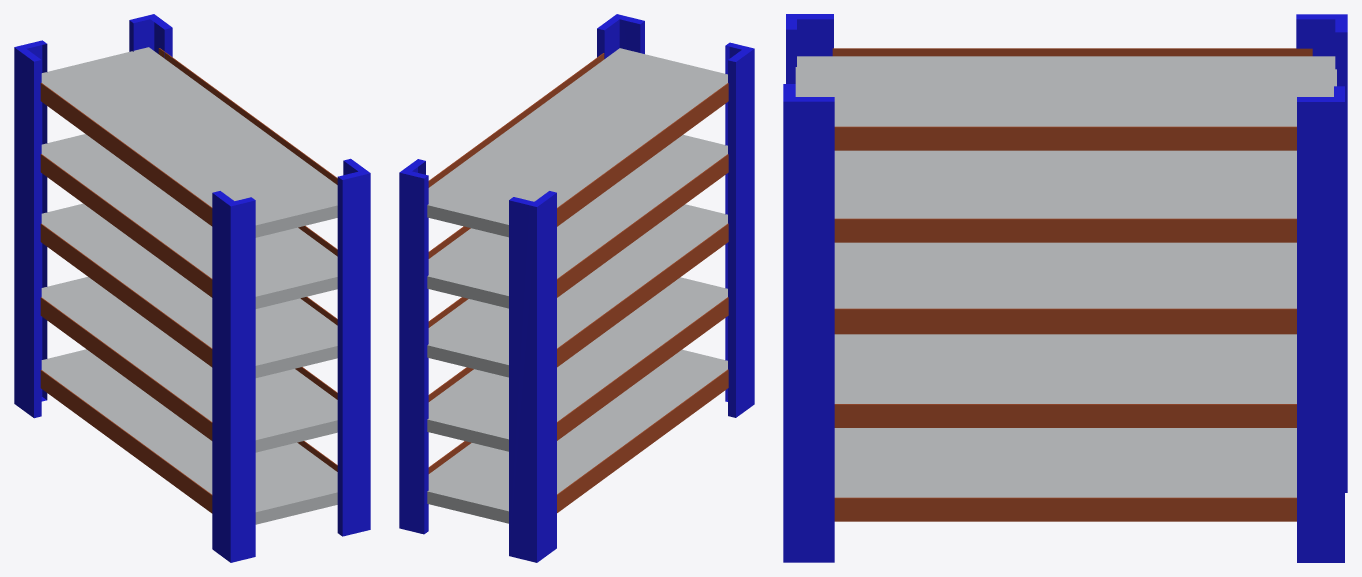
The model's file is Shelf.fbx.
3 renders of one model, left to right at view 1: azimuth 30°, elevation 25°; view 2: azimuth 150°, elevation 25°; view 3: azimuth 270°, elevation 25°, orthographic. The views are drawn at different scales.
Visible parts, largest first — view 1: Plane.033, Plane.031, Plane.036, Plane.037, Plane.034, Plane.035, Plane.032, Plane.029, Plane.022, Plane.026, Plane.027, Plane.023 (+3 smaller); view 2: Plane.033, Plane.029, Plane.036, Plane.037, Plane.034, Plane.035, Plane.030, Plane.031, Plane.023, Plane.019, Plane.022, Plane.026 (+3 smaller); view 3: Plane.033, Plane.036, Plane.037, Plane.034, Plane.035, Plane.032, Plane.030, Plane.020, Plane.021, Plane.024, Plane.028, Plane.025 (+4 smaller).
Boxes of the visible parts, x1,y1,x2,y2 form: Plane.033: (41, 47, 337, 237); Plane.031: (212, 191, 255, 562); Plane.036: (41, 277, 337, 452); Plane.037: (41, 349, 337, 524); Plane.034: (41, 134, 337, 308); Plane.035: (41, 203, 337, 377); Plane.032: (337, 158, 370, 536); Plane.029: (14, 40, 47, 418); Plane.022: (40, 154, 212, 297); Plane.026: (40, 297, 212, 440); Plane.027: (40, 370, 212, 513); Plane.023: (40, 223, 212, 367); Plane.033: (427, 48, 727, 237); Plane.029: (509, 191, 556, 562); Plane.036: (427, 277, 727, 451); Plane.037: (427, 349, 727, 523); Plane.034: (427, 134, 727, 308); Plane.035: (427, 204, 727, 377); Plane.030: (399, 159, 428, 534); Plane.031: (725, 42, 754, 417); Plane.023: (557, 223, 728, 367); Plane.019: (557, 83, 728, 226); Plane.022: (557, 154, 728, 297); Plane.026: (557, 297, 728, 440); Plane.033: (795, 56, 1336, 126); Plane.036: (834, 334, 1296, 403); Plane.037: (834, 428, 1296, 497); Plane.034: (834, 150, 1296, 218); Plane.035: (834, 242, 1296, 308); Plane.032: (783, 84, 834, 562); Plane.030: (1297, 86, 1344, 562); Plane.020: (834, 126, 1296, 150); Plane.021: (834, 218, 1296, 242); Plane.024: (834, 308, 1296, 332); Plane.028: (834, 497, 1296, 521); Plane.025: (834, 404, 1296, 427).
Size of the model in its own units: 227 by 555 by 615.
